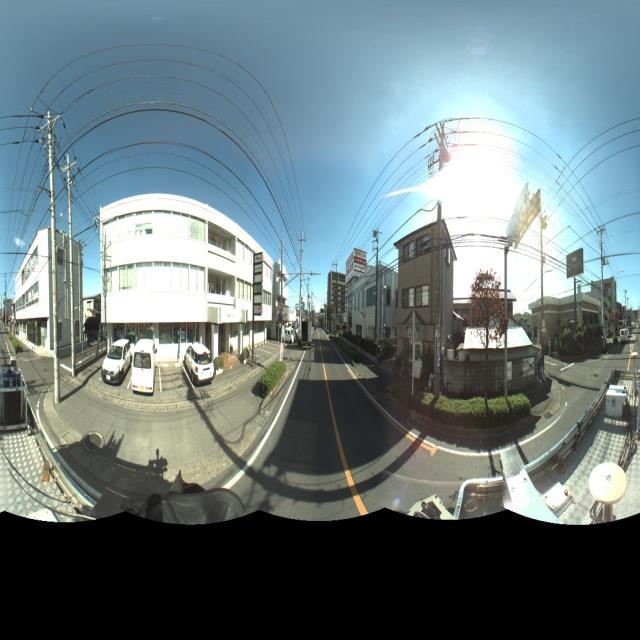b_1: (97, 187, 273, 374), (12, 218, 94, 360), (397, 223, 454, 368), (349, 258, 399, 340), (531, 285, 594, 339), (271, 253, 299, 347), (589, 270, 622, 334), (325, 268, 352, 328)
b_2: (449, 276, 530, 408)
